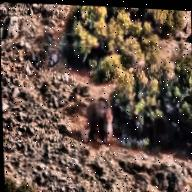boar: (86, 88, 117, 144)
